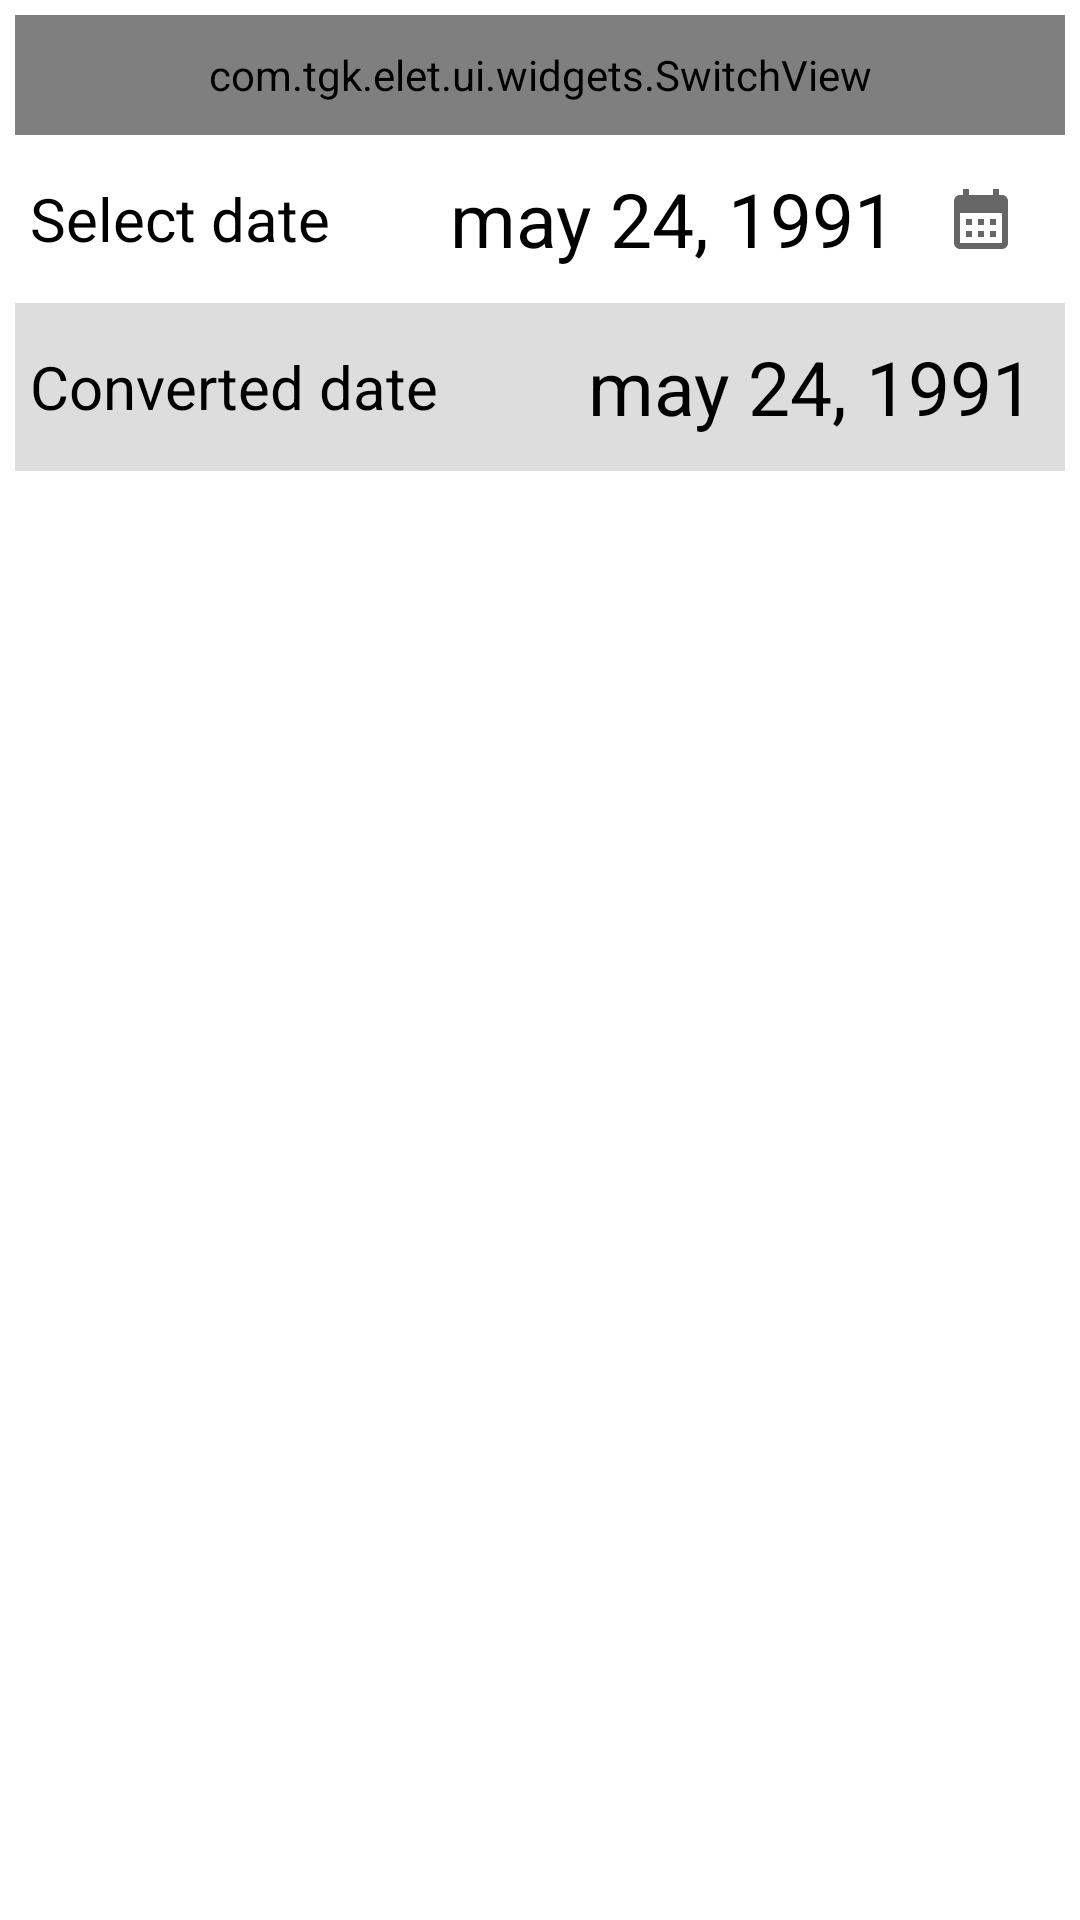

Icon click points for this 1080 × 1920 phone screenshot, format (x=x, y=y):
show date picker: (x=981, y=219)
